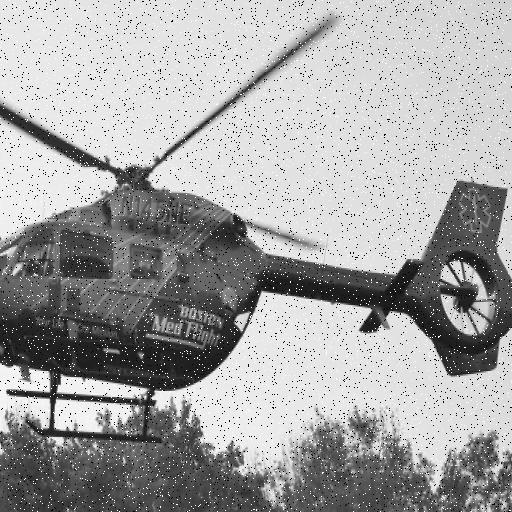helicopter: (1, 6, 512, 447)
